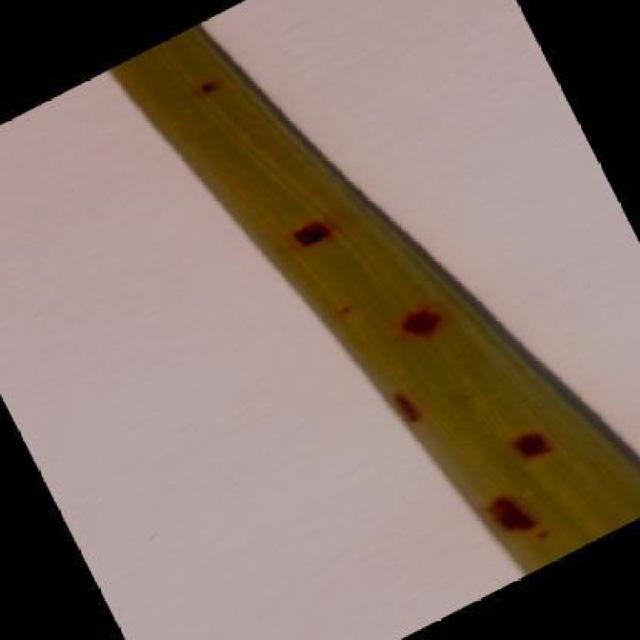Leaf_Blast: (373, 285, 469, 363), (466, 482, 560, 552), (270, 198, 352, 267), (378, 378, 452, 445), (503, 411, 566, 478), (317, 290, 375, 333), (192, 65, 234, 106)
